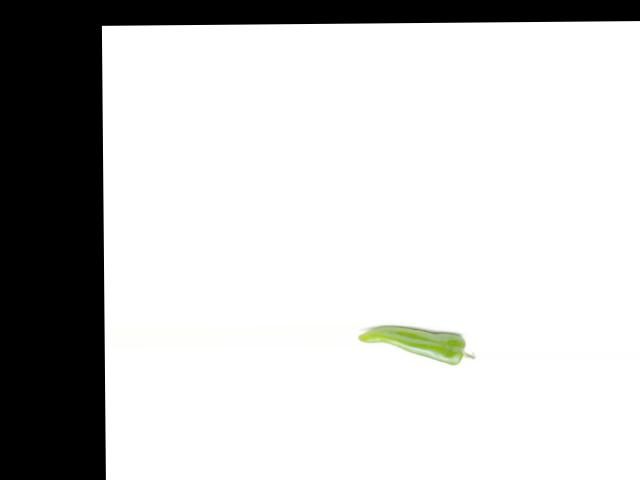bell_pepper: (357, 322, 480, 368)
